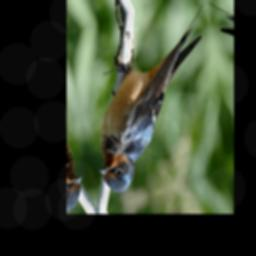Swallow: (76, 2, 230, 200)
